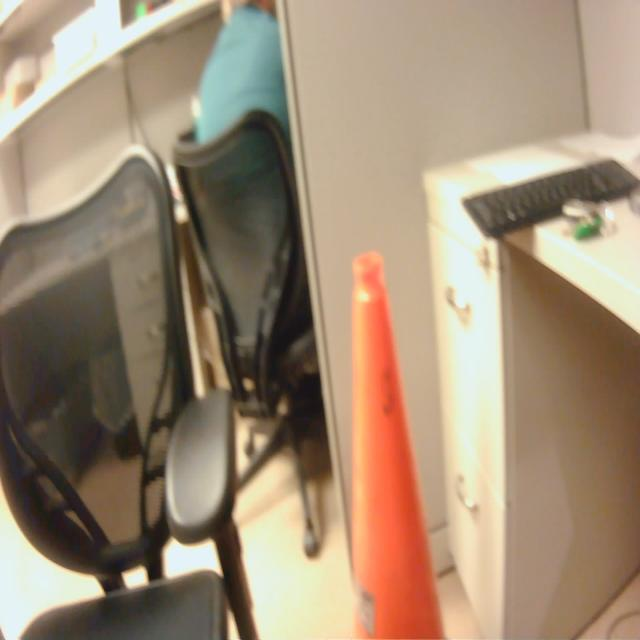traffic cone: (339, 246, 458, 640)
